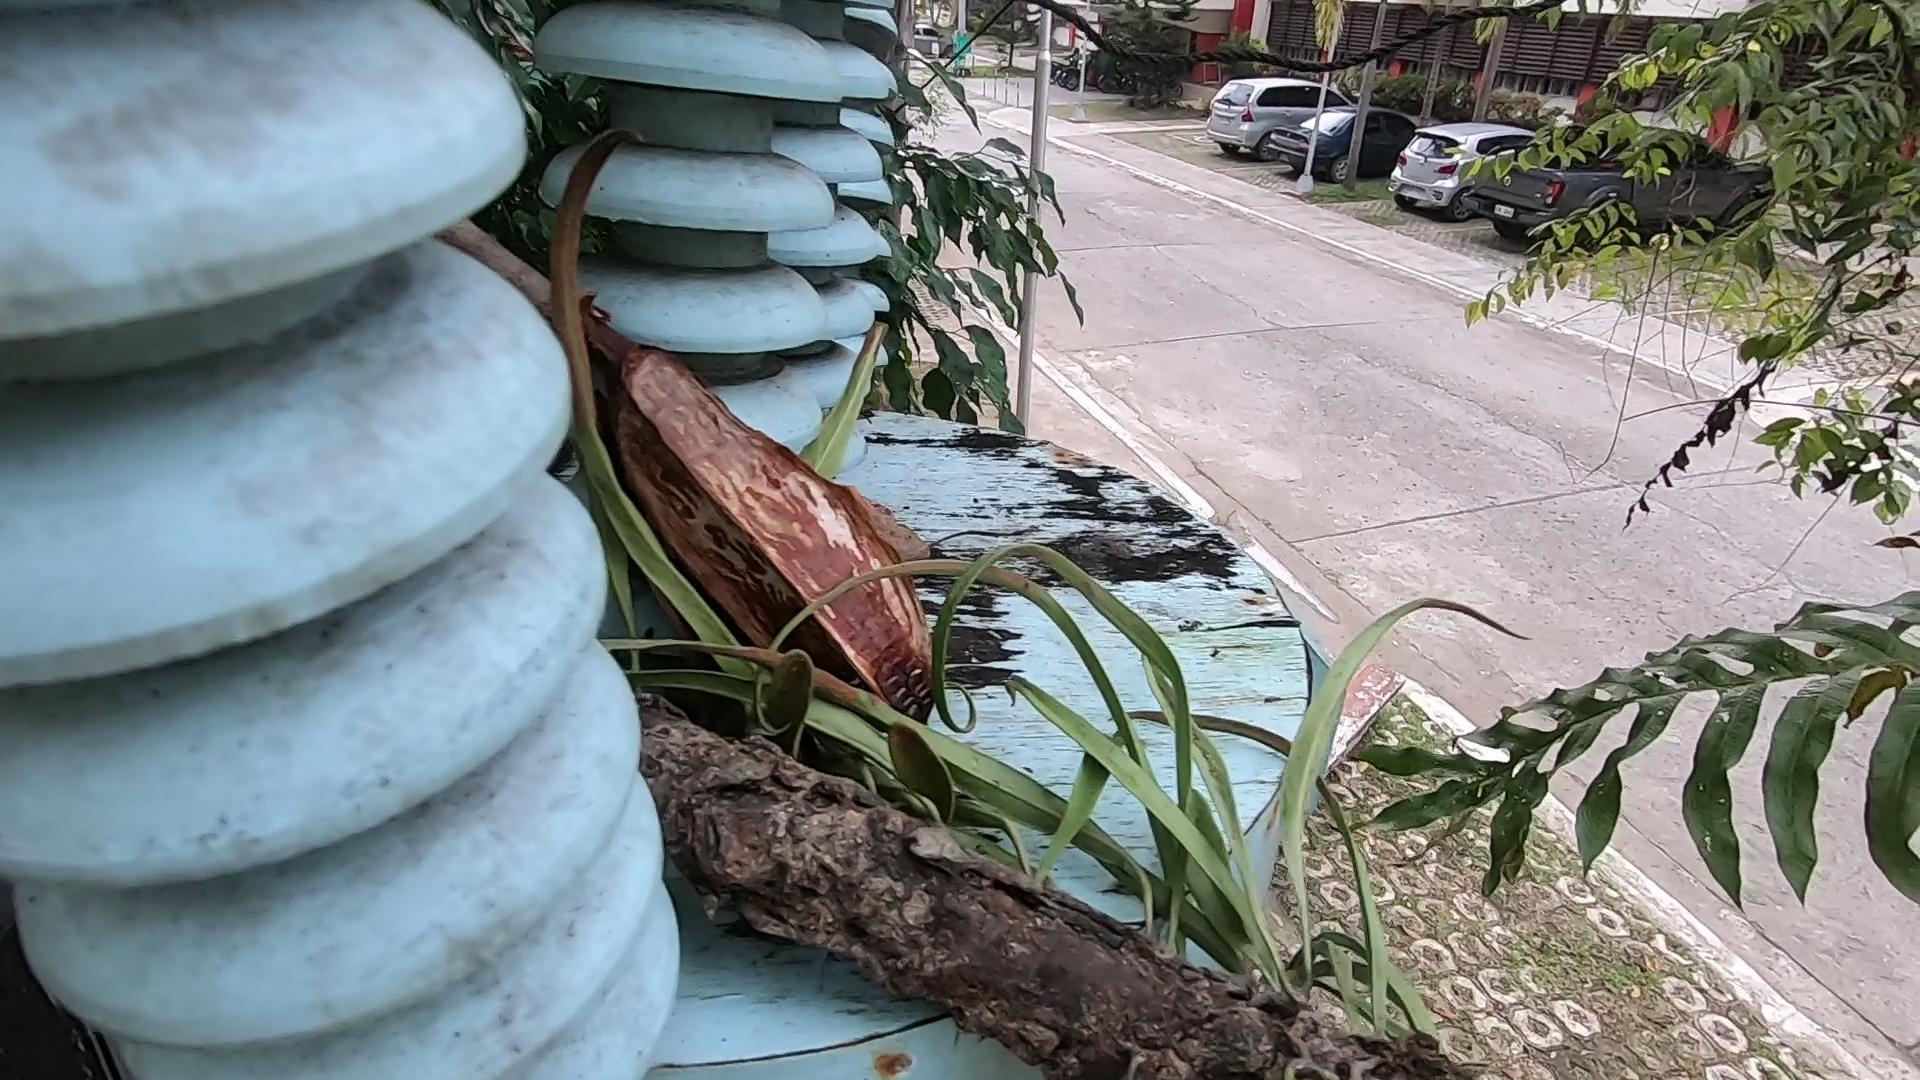branch with leaves: (558, 574, 1324, 1017)
mahogany fruit: (589, 382, 978, 713)
tree branch: (426, 200, 708, 429)
